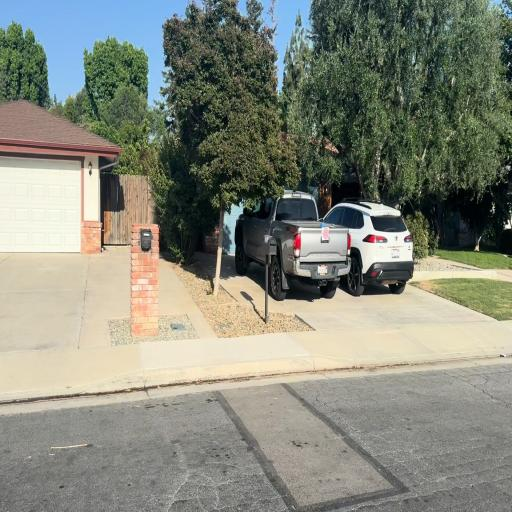bullseye: (322, 227, 329, 240)
